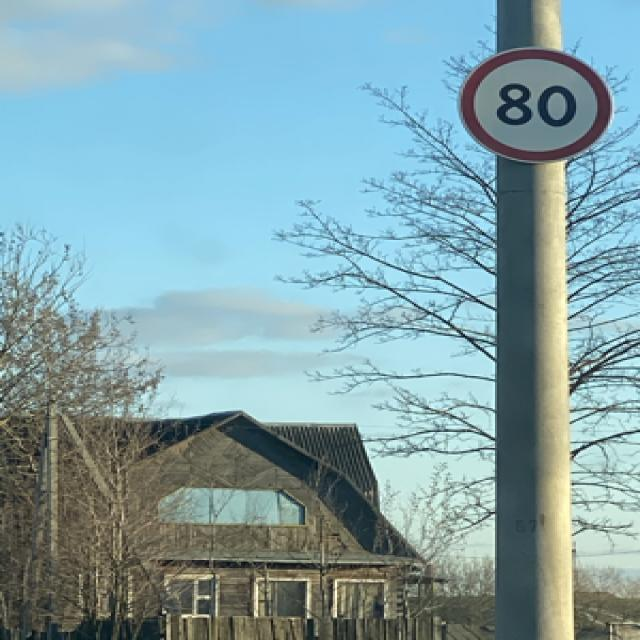speedlimit: (455, 45, 610, 160)
